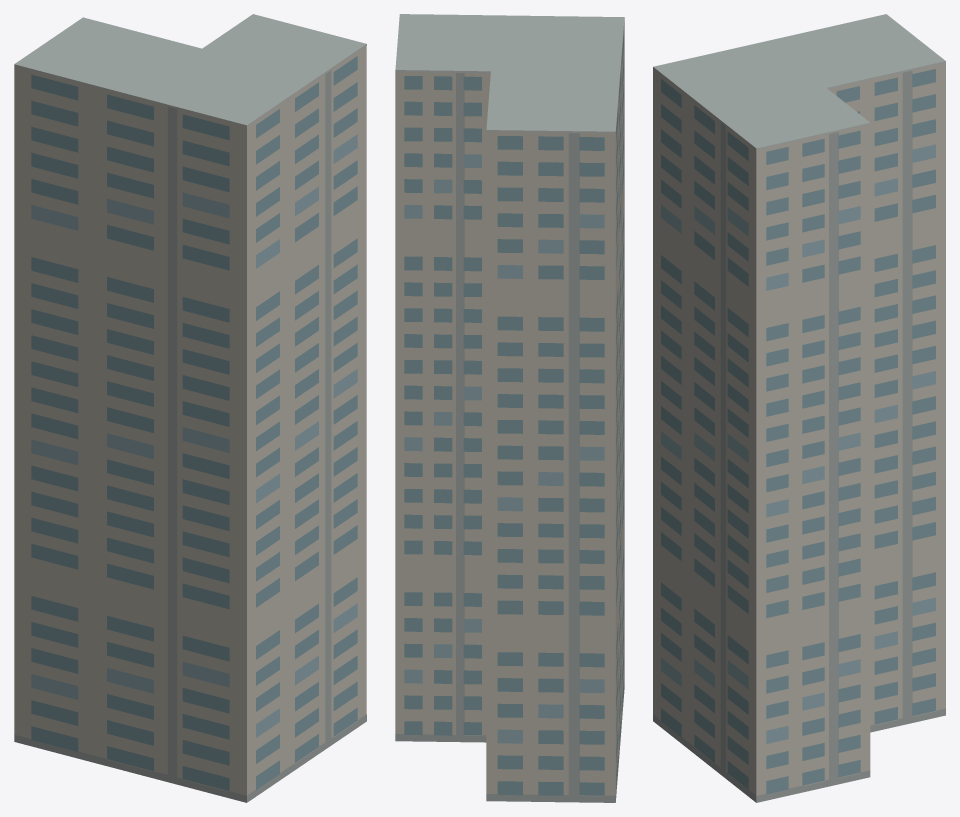
The model's file is residential-f2732d5b-d55c-4a4f-8c5f-5286ccc68fe8.glb.
The picture shows the model from 3 angles, left to right: view 1: azimuth 30°, elevation 25°; view 2: azimuth 150°, elevation 25°; view 3: azimuth 270°, elevation 25°; orthographic projection. The views are drawn at different scales.
Parts seen in each view (by area): view 1: residential-f2732d5b-d55c-4a4f-8c5f-5286ccc68fe8.tmp; view 2: residential-f2732d5b-d55c-4a4f-8c5f-5286ccc68fe8.tmp; view 3: residential-f2732d5b-d55c-4a4f-8c5f-5286ccc68fe8.tmp.
Part boxes in pixels (left/top/right/bottom): residential-f2732d5b-d55c-4a4f-8c5f-5286ccc68fe8.tmp: left=14, top=14, right=366, bottom=802; residential-f2732d5b-d55c-4a4f-8c5f-5286ccc68fe8.tmp: left=395, top=14, right=624, bottom=802; residential-f2732d5b-d55c-4a4f-8c5f-5286ccc68fe8.tmp: left=653, top=14, right=945, bottom=802.
Size of the model in its own units: 34.38 by 78 by 31.64.
